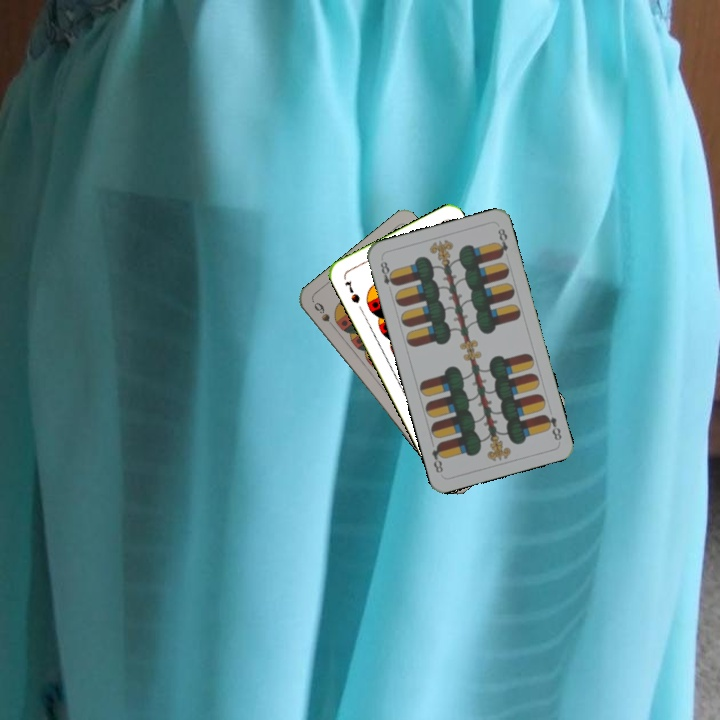E8: (540, 410, 564, 443), (376, 255, 399, 289)
S7: (341, 276, 362, 306)
S9: (310, 298, 339, 333)
